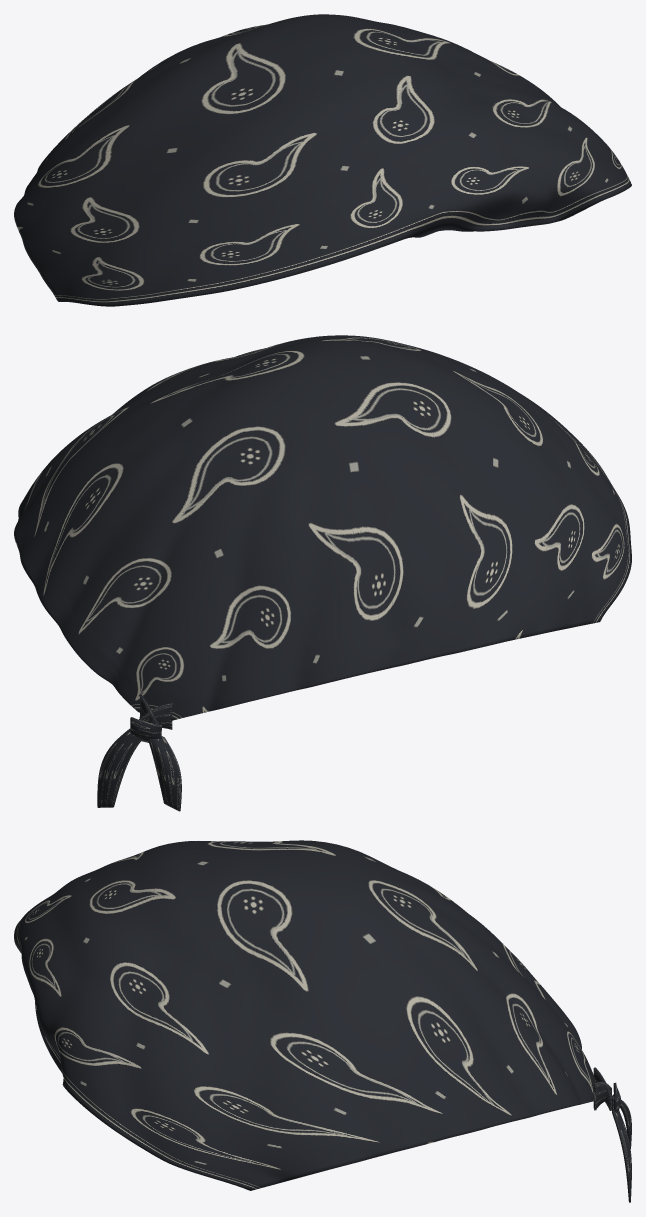
The model's file is Feminine-curls-bandana.glb.
3 renders of one model, top to bottom at view 1: azimuth 30°, elevation 25°; view 2: azimuth 150°, elevation 25°; view 3: azimuth 270°, elevation 25°, orthographic.
Visible parts, largest first — view 1: Bandana / folded crown scarf; view 2: Bandana / folded crown scarf, Bandana / falling tie 1, Bandana / falling tie -1; view 3: Bandana / folded crown scarf, Bandana / falling tie 1.
Part boxes in pixels (left/top/right/bottom): Bandana / folded crown scarf: left=14, top=14, right=631, bottom=306; Bandana / folded crown scarf: left=14, top=335, right=631, bottom=720; Bandana / falling tie 1: left=97, top=728, right=141, bottom=807; Bandana / falling tie -1: left=148, top=736, right=181, bottom=811; Bandana / folded crown scarf: left=14, top=840, right=597, bottom=1190; Bandana / falling tie 1: left=612, top=1095, right=631, bottom=1202.
Size of the model in its own units: 0.7709 by 0.4226 by 0.7485.
1 material, 1 textured.
